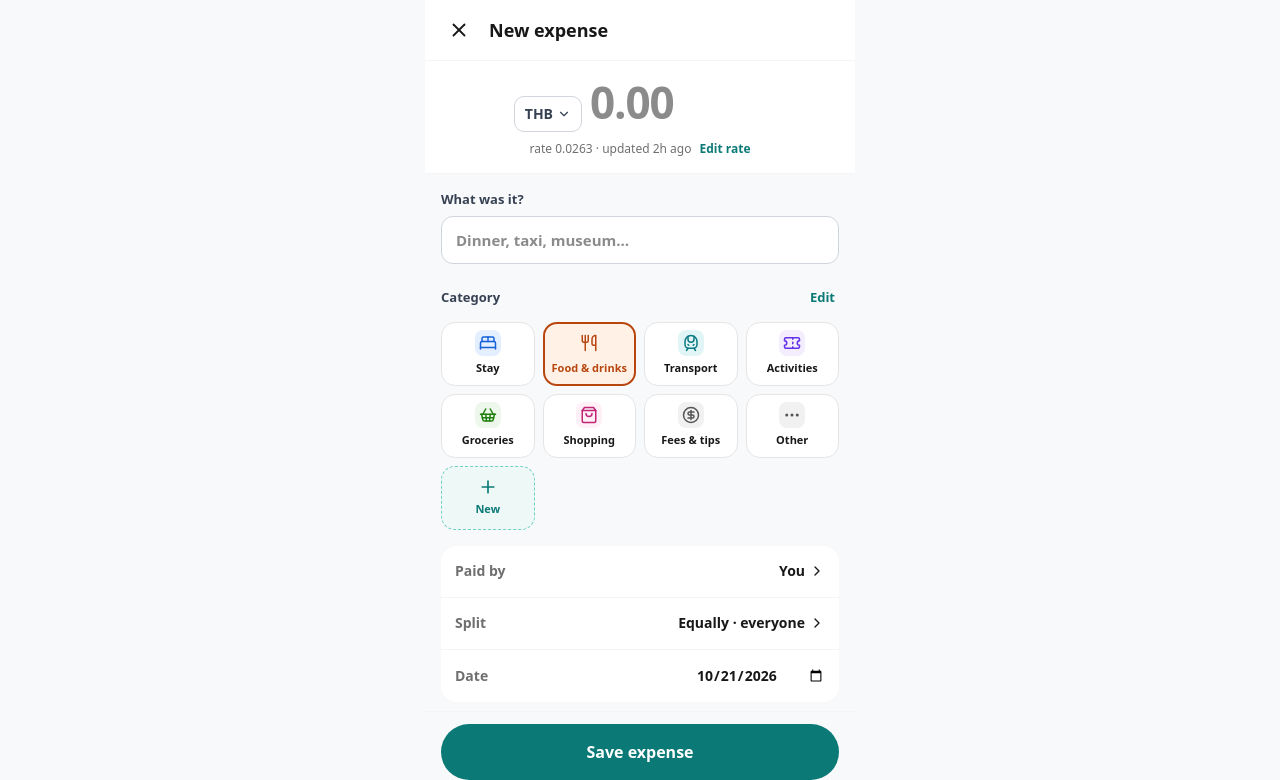
Scenario: currency picker › shows the rate banner, the trip currency and the currencies used on the trip
Step 1. Click the button with aria-label "Change currency" → (548, 114), box [514,96,582,132]
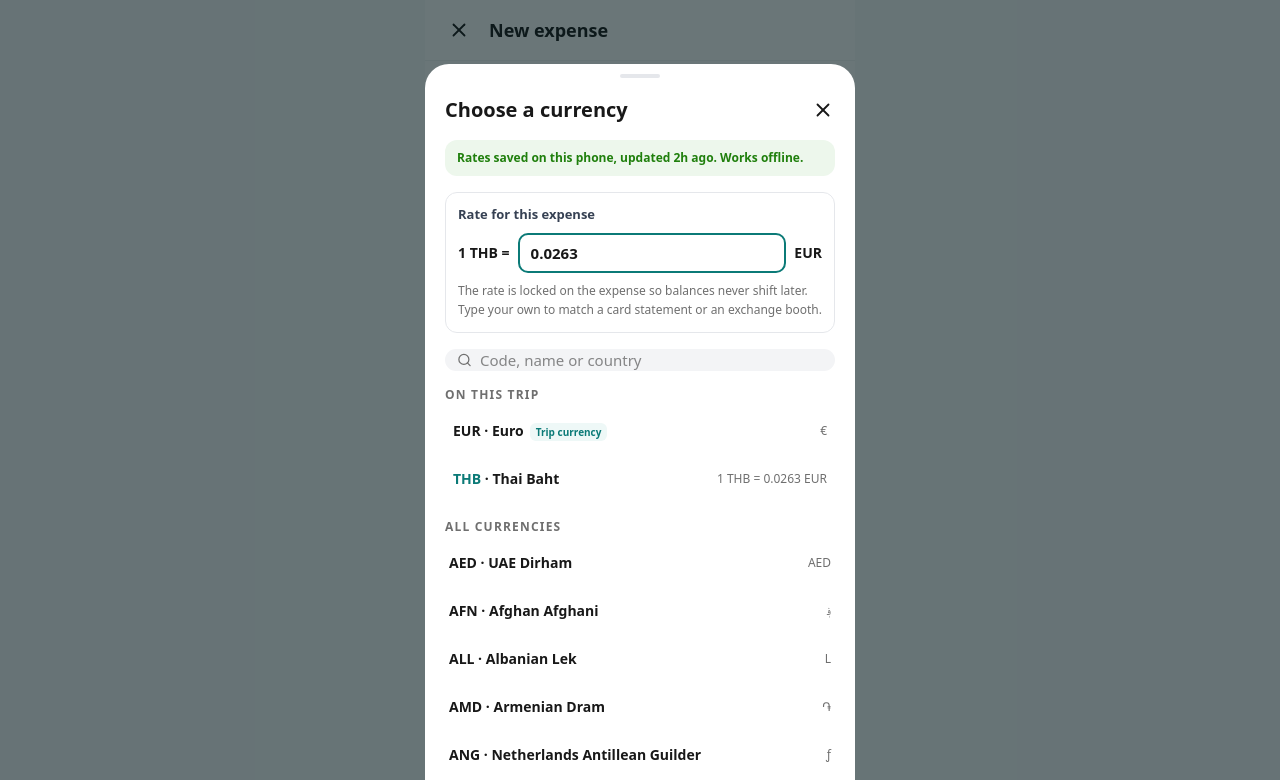
Check: the text "Rates saved on this phone, updated 2h ago. Works offline." is shown, box [445,140,835,176]
Check: the text "Trip currency" is shown, box [530,423,607,441]
Check: the text "1 THB = 0.0263 EUR" is shown, box [717,471,827,487]
